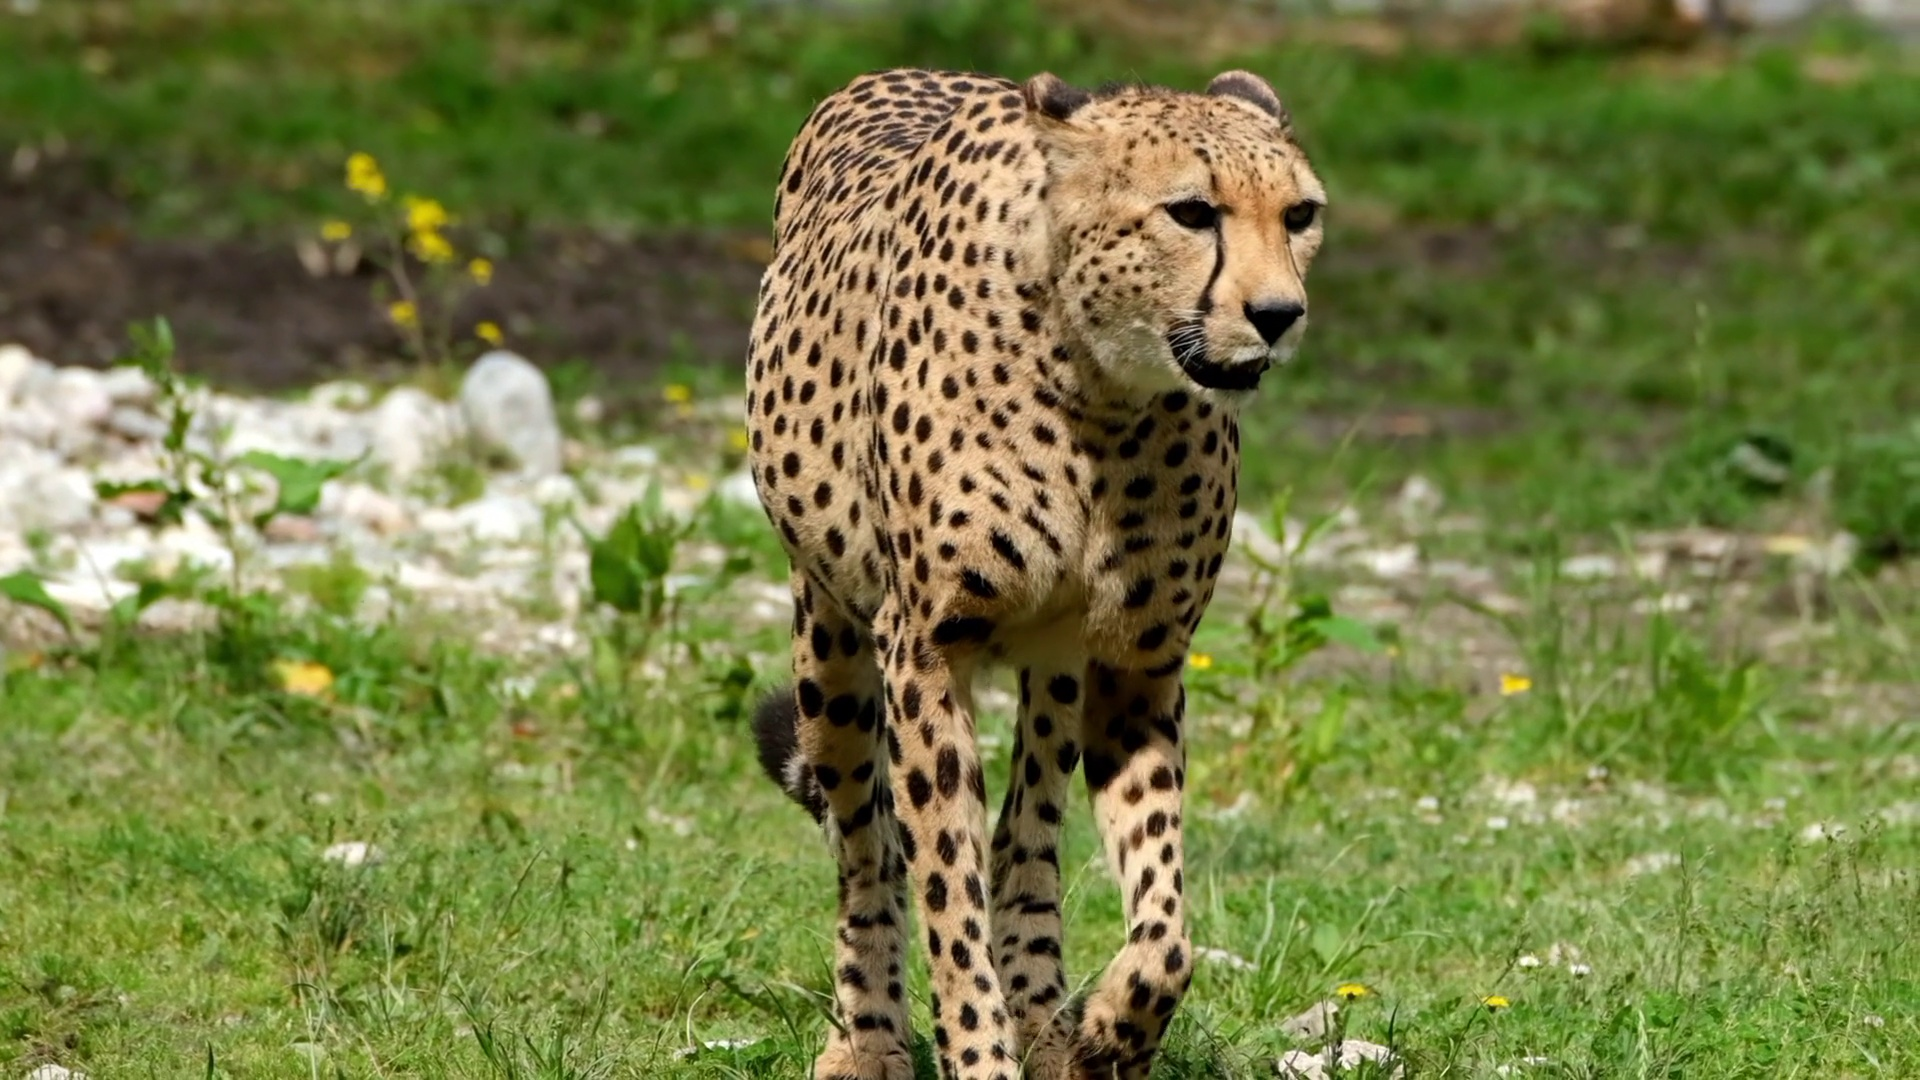Cheetah: (737, 58, 1332, 1080)
